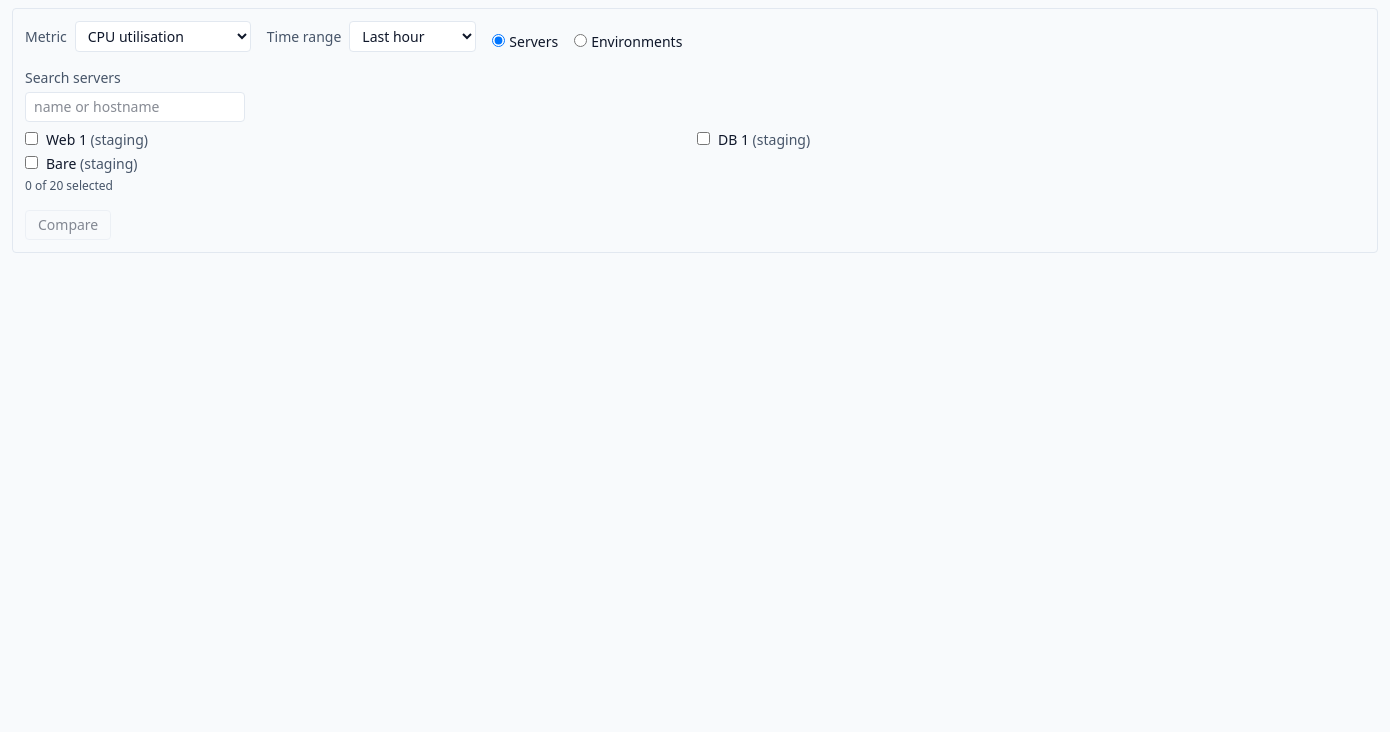
Test: Compare › plots at most eight lines and lists the rest as not plotted
Click the checkbox labelled "Web 1 (staging)" at (32, 138), box [25,132,38,145]
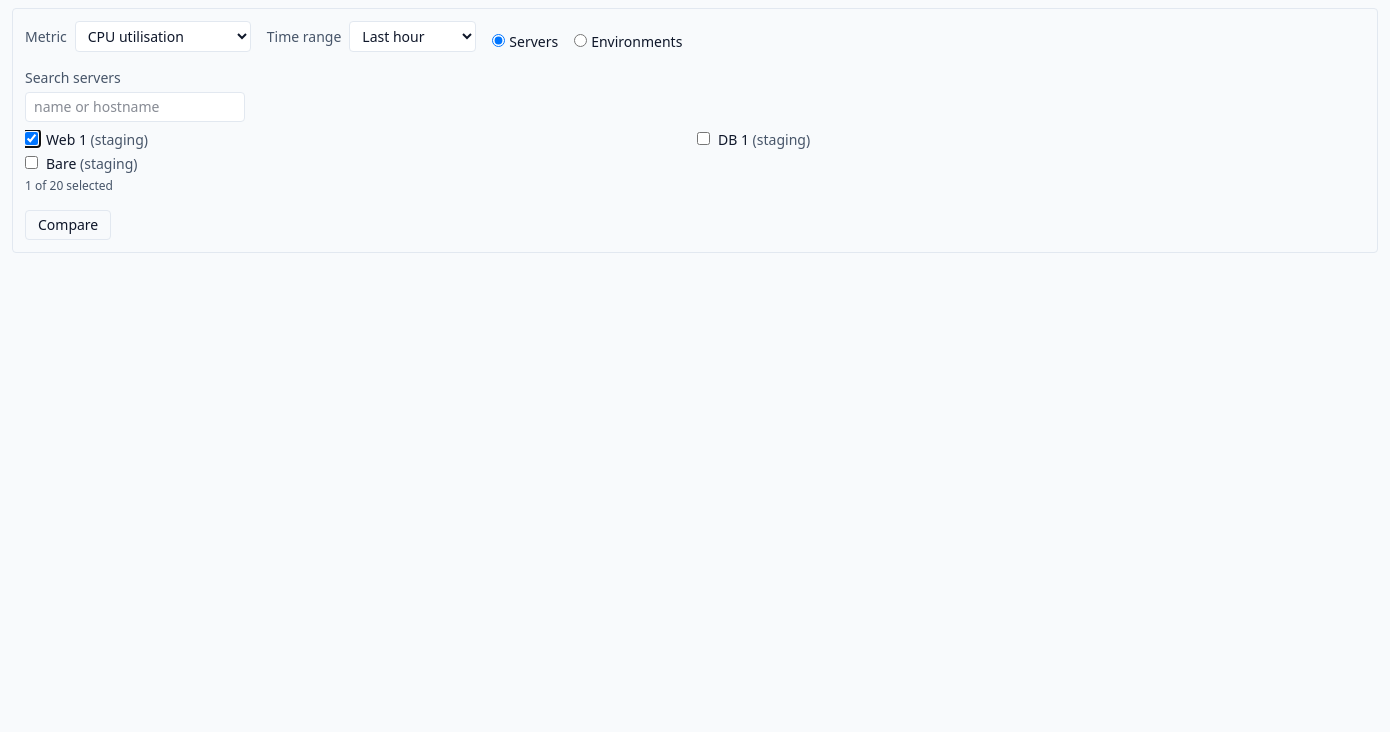
Click the button "Compare" at (68, 225), box [25,210,111,240]
(page scrolled)
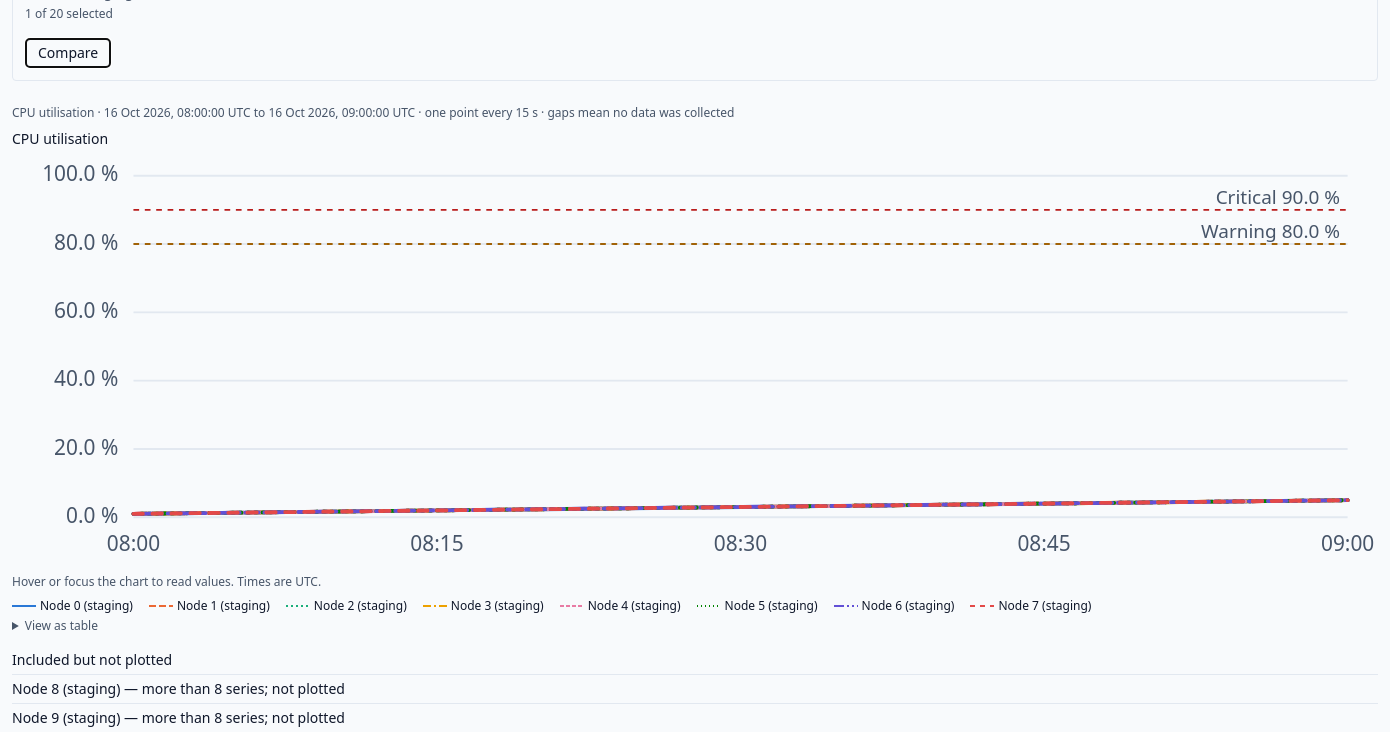
Expected: the element named "CPU utilisation" is shown, [12,153,1378,570]
Expected: the list item "Node 8 (staging) — more than 8 series; not plotted" is shown, [12,674,1378,703]
Expected: the list item "Node 9 (staging) — more than 8 series; not plotted" is shown, [12,703,1378,731]
